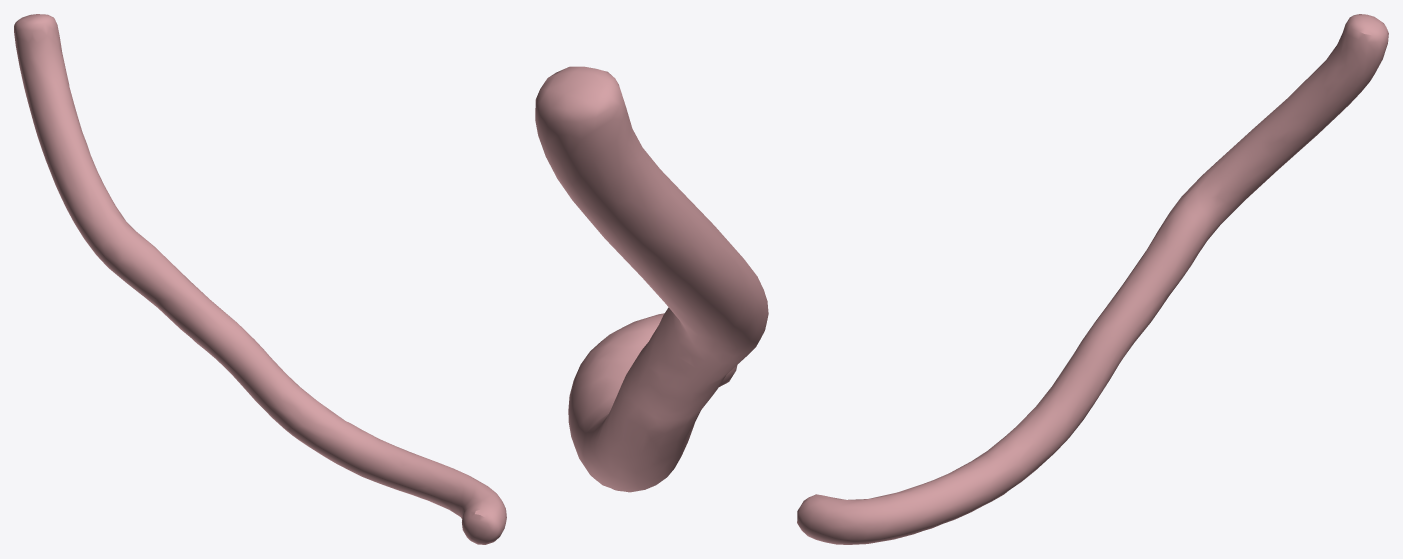
File: fma276309_mm1066m.glb
3 views of the same model, side by side, from view 1: azimuth 30°, elevation 25°; view 2: azimuth 150°, elevation 25°; view 3: azimuth 270°, elevation 25° (orthographic). The views are drawn at different scales.
Parts seen in each view (by area): view 1: FMA276309_MM1066M; view 2: FMA276309_MM1066M; view 3: FMA276309_MM1066M.
Boxes of the visible parts, bbox=[...] form: FMA276309_MM1066M: bbox=[14, 14, 506, 544]; FMA276309_MM1066M: bbox=[535, 66, 768, 492]; FMA276309_MM1066M: bbox=[797, 14, 1388, 544].
Size of the model in its own units: 0.0242 by 0.0358 by 0.0459.
